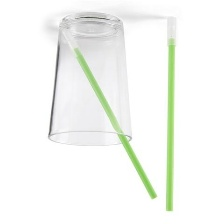drinking_straw: (57, 25, 158, 204), (159, 13, 181, 215)
glass: (42, 8, 136, 150)
